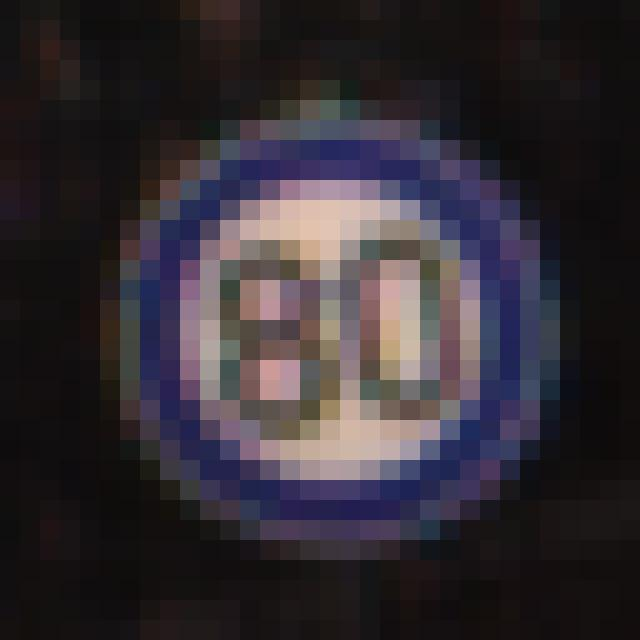SPEED-LIMIT-80: (109, 112, 558, 558)
